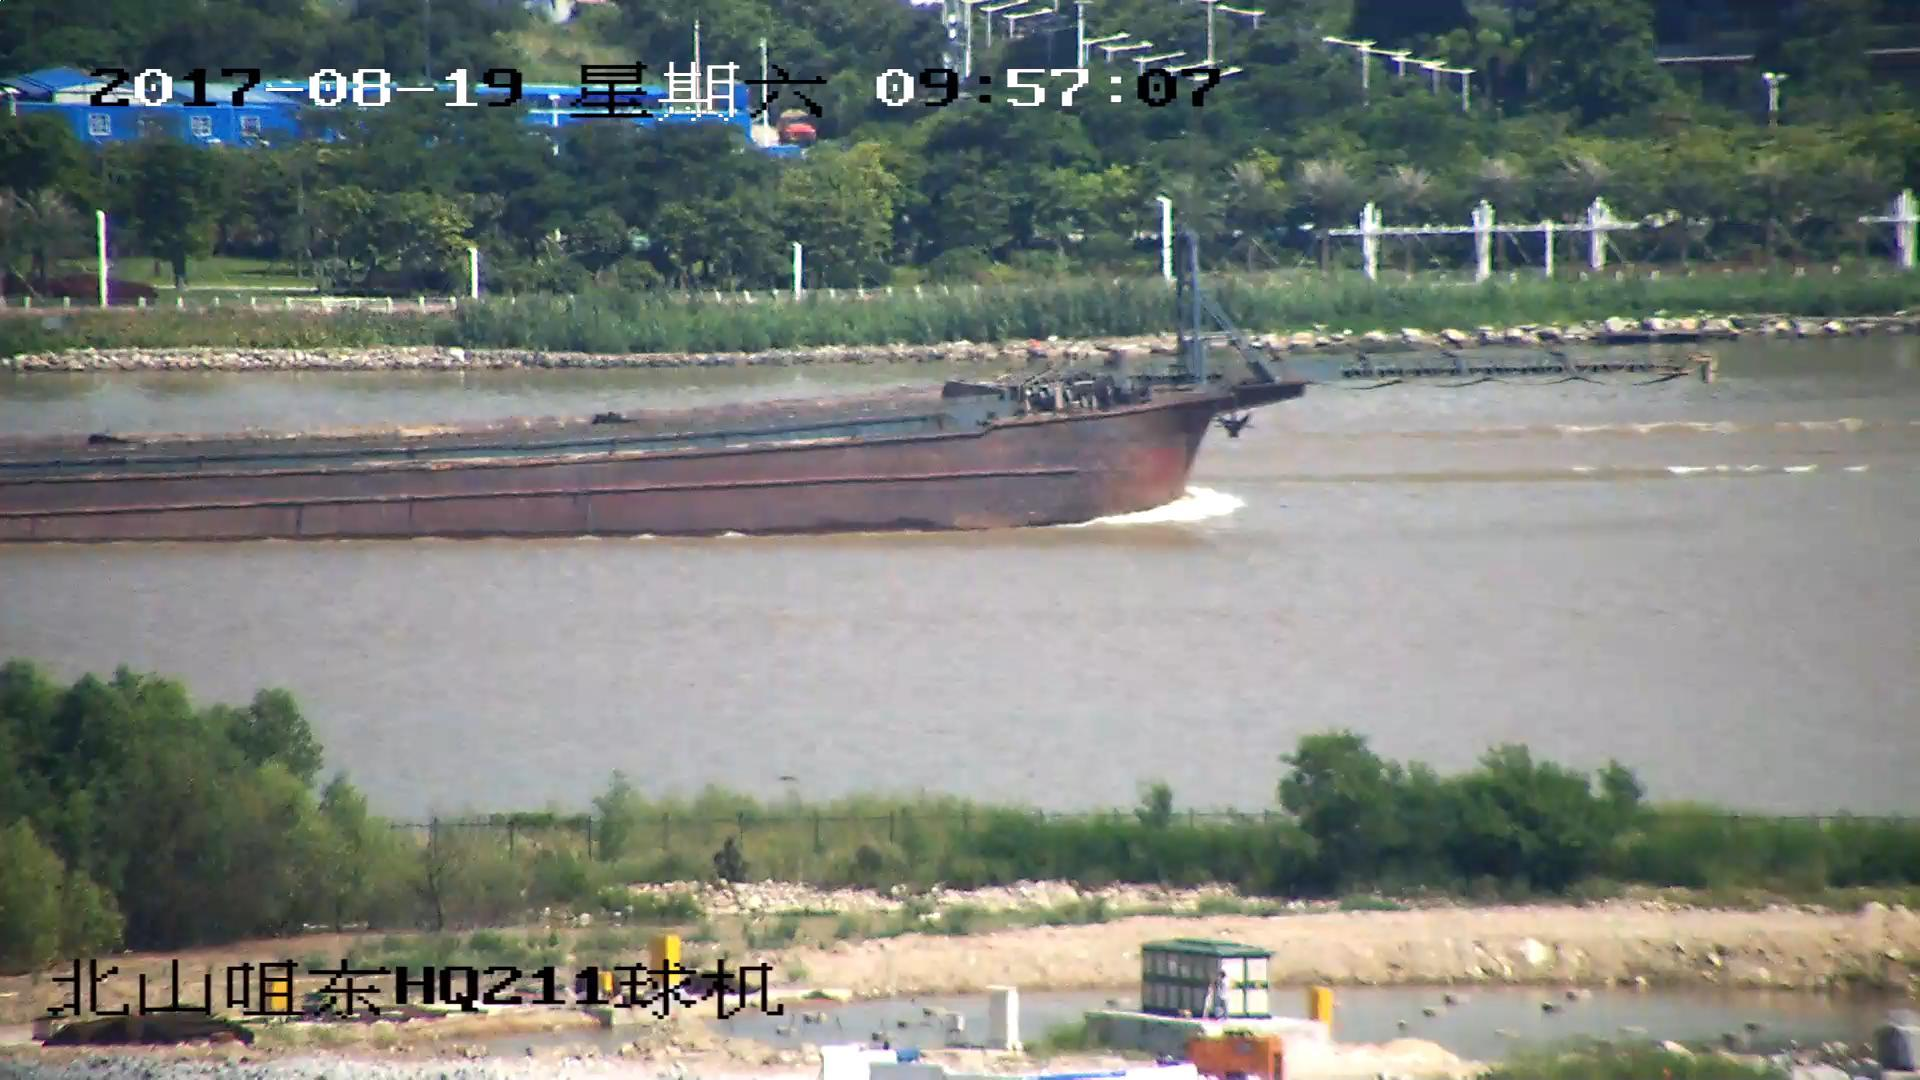Ship: (3, 240, 1705, 549)
